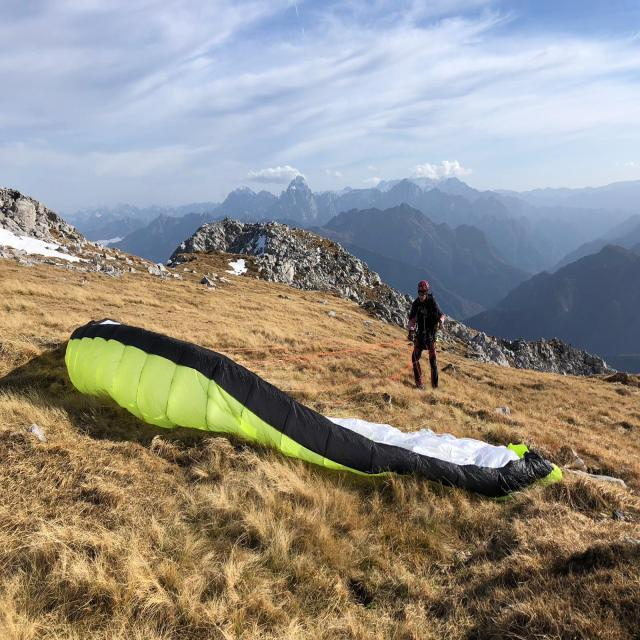paraglider: (64, 317, 562, 497)
